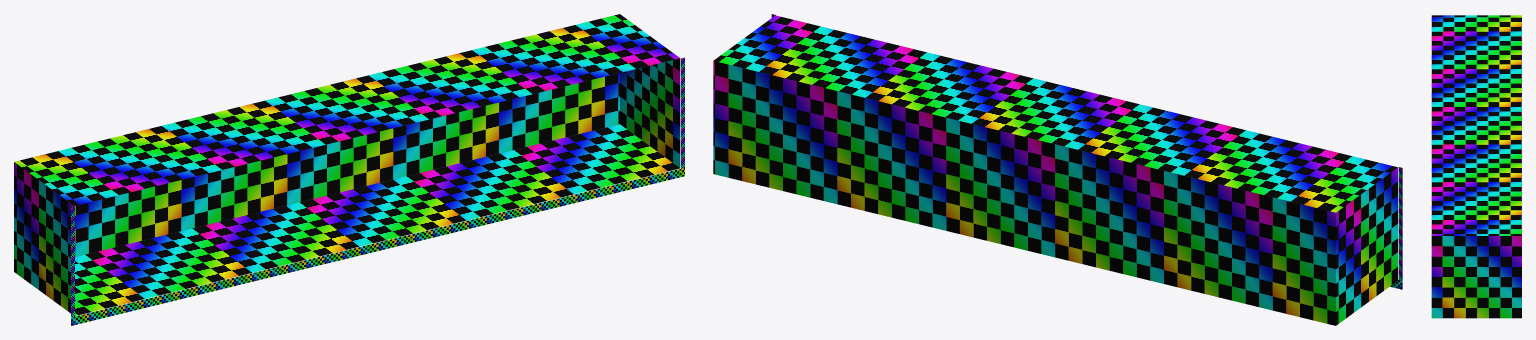
The model's file is MidAttic.FBX.
3 views of the same model, side by side, from view 1: azimuth 30°, elevation 25°; view 2: azimuth 150°, elevation 25°; view 3: azimuth 270°, elevation 25° (orthographic). The views are drawn at different scales.
Parts seen in each view (by area): view 1: MidAtticWall, MidAtticCeiling, MidAtticFloor, MidAtticBeams; view 2: MidAtticWall, MidAtticCeiling, MidAtticBeams; view 3: MidAtticCeiling, MidAtticWall.
Boxes of the visible parts, left/top/right/bottom form: MidAtticWall: left=14, top=58, right=680, bottom=313; MidAtticCeiling: left=14, top=14, right=679, bottom=205; MidAtticFloor: left=75, top=124, right=679, bottom=315; MidAtticBeams: left=71, top=57, right=684, bottom=325; MidAtticWall: left=713, top=61, right=1397, bottom=325; MidAtticCeiling: left=713, top=15, right=1397, bottom=212; MidAtticBeams: left=771, top=14, right=1402, bottom=289; MidAtticCeiling: left=1431, top=15, right=1521, bottom=235; MidAtticWall: left=1431, top=236, right=1521, bottom=318.
Size of the model in its own units: 597 by 110 by 103.
